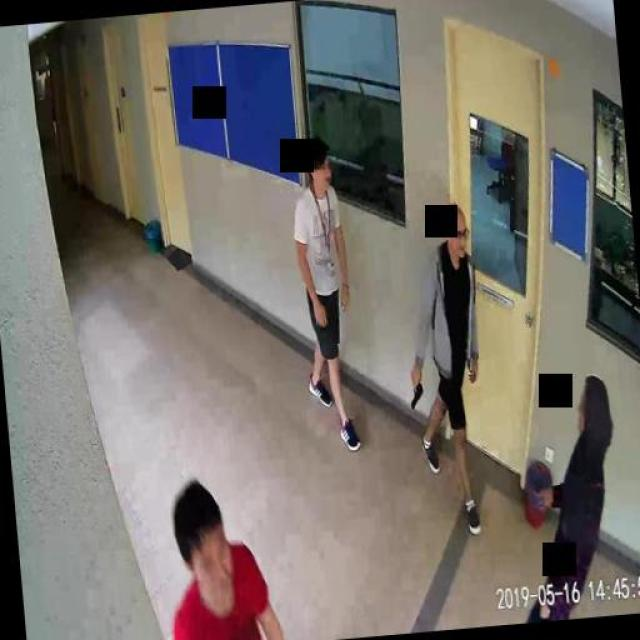gun: (407, 375, 422, 406)
